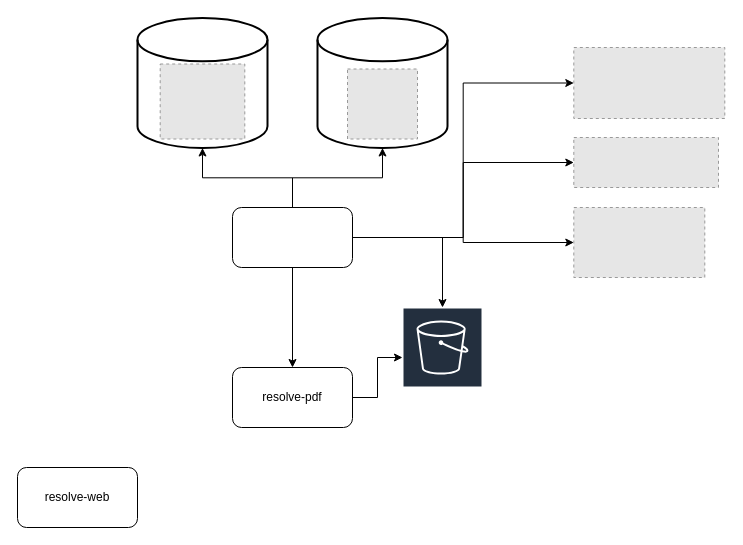
Some shapes in this 743 by 545 pixel diagram are drawn without their labels. Grey dashed boxes stand in for pictures. Here are the shapes that lost their labels. From the top down, the centre of each, then its label:
point (292, 237): resolve-app
point (442, 357): Amazon S3
